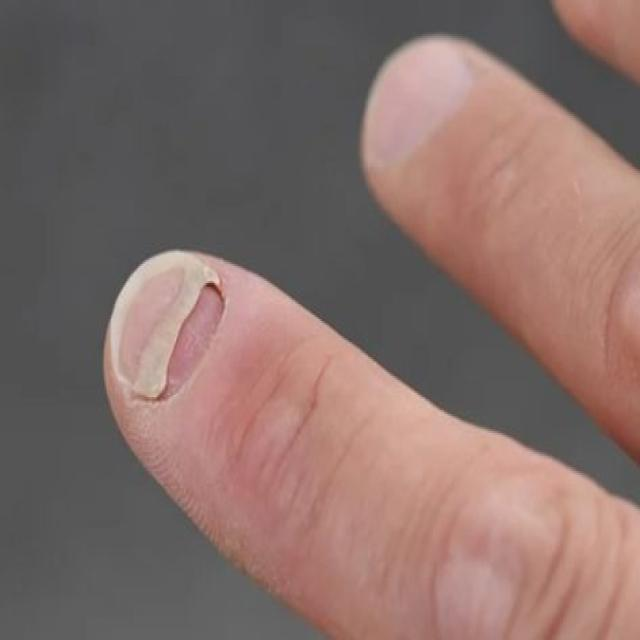Fingernail: (113, 249, 221, 401), (371, 42, 471, 167)
